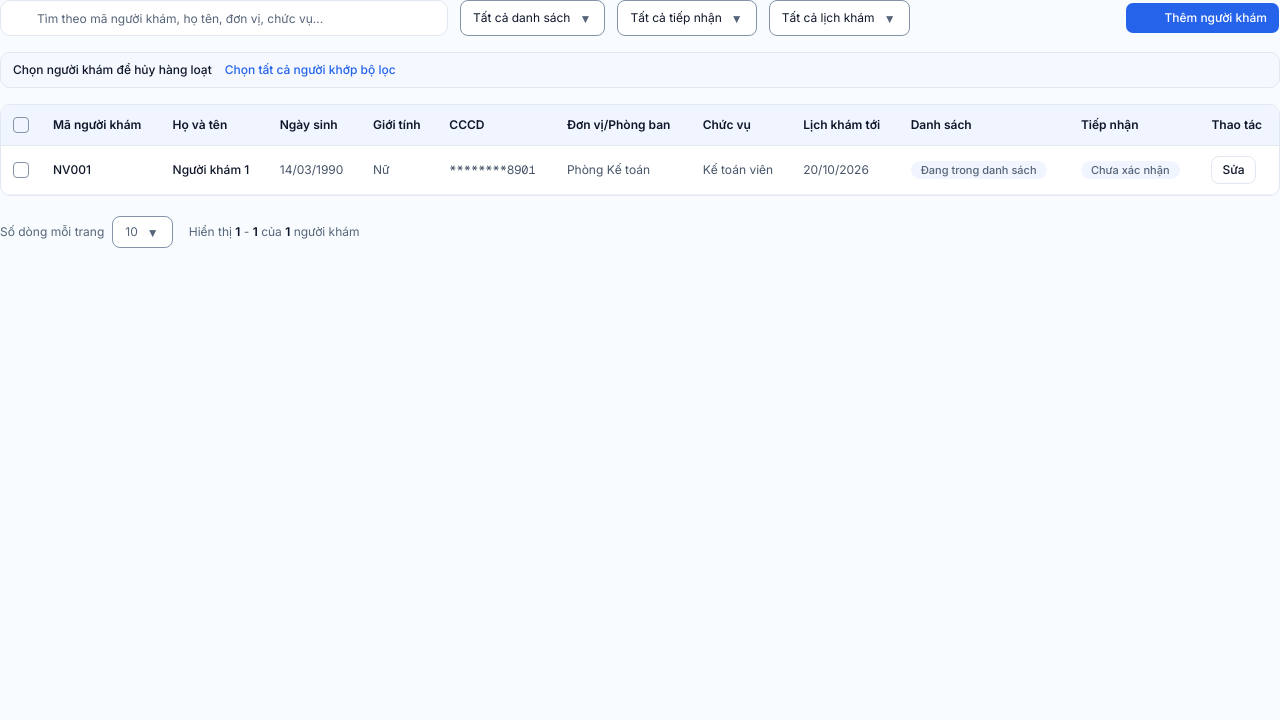
adding a Participant › validates the form before any request
The width and height of the screenshot is (1280, 720).
Click the button "Thêm người khám".
click(1203, 18)  # box [1125,2,1279,34]
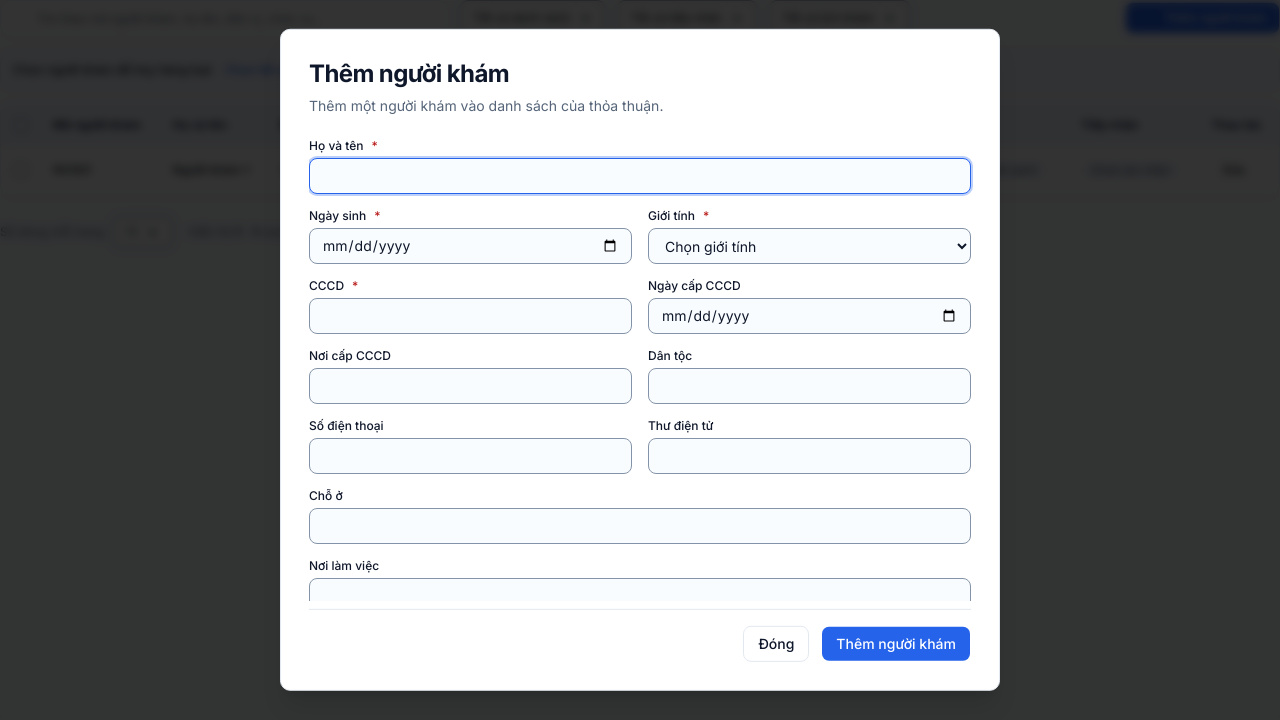
Click the button "Thêm người khám".
click(896, 644)  # box [821,626,971,662]
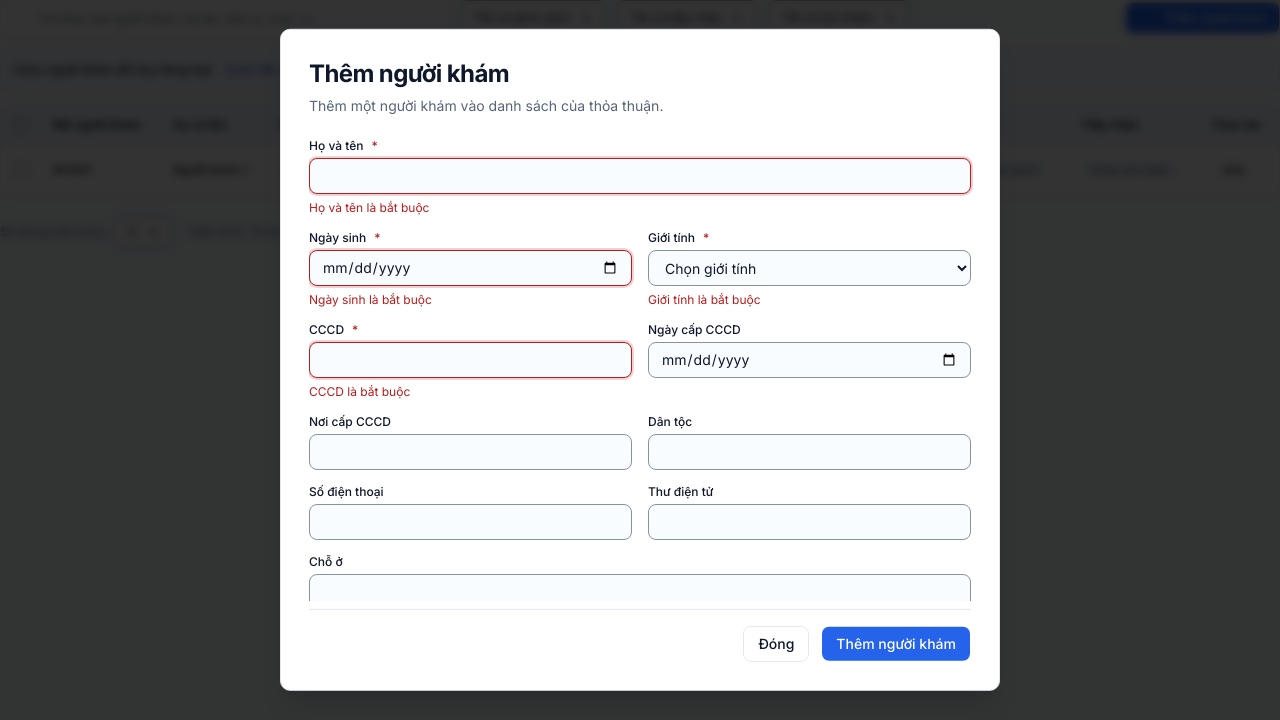
expect the text "Họ và tên là bắt buộc" is shown: met, box [309,200,430,215]
expect the text "CCCD là bắt buộc" is shown: met, box [309,384,410,399]
